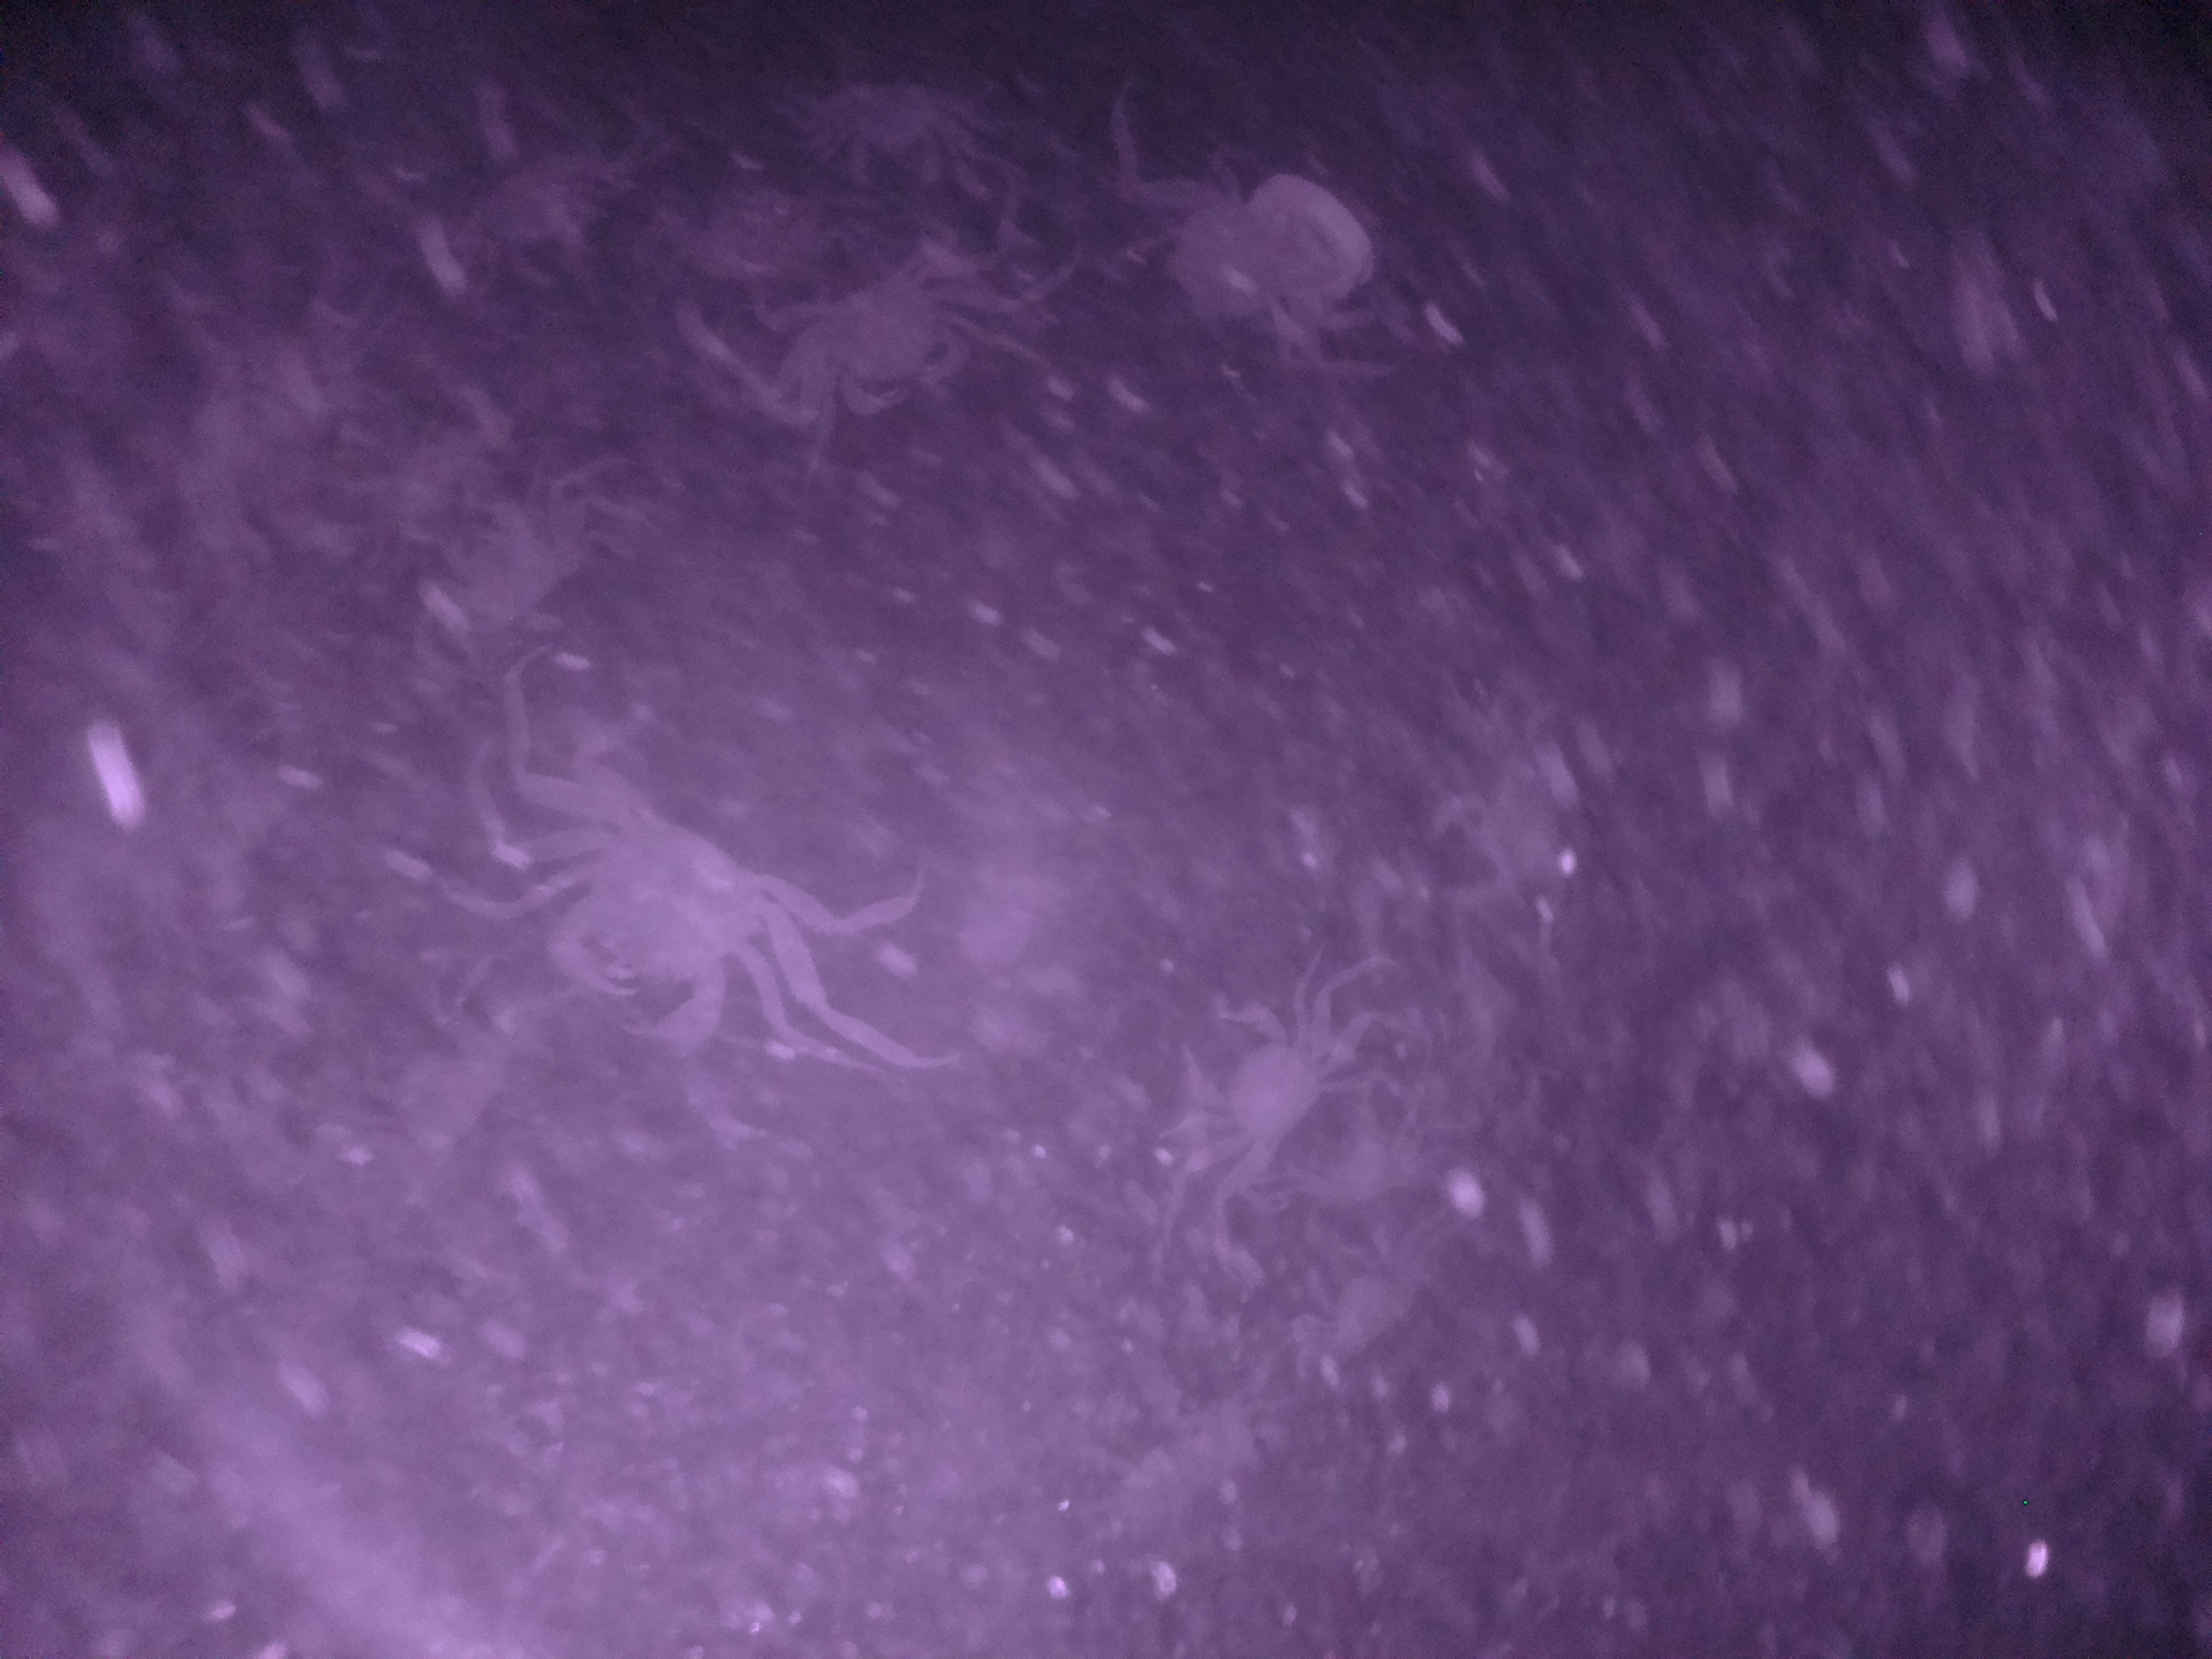Crab: (512, 763, 794, 1060), (1155, 978, 1352, 1206), (765, 246, 998, 437)
